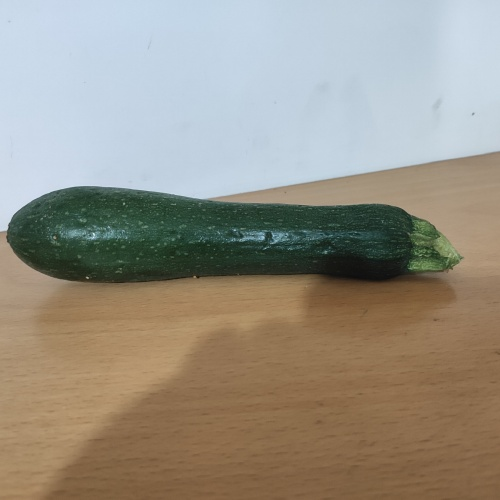zucchine: (11, 185, 464, 307)
